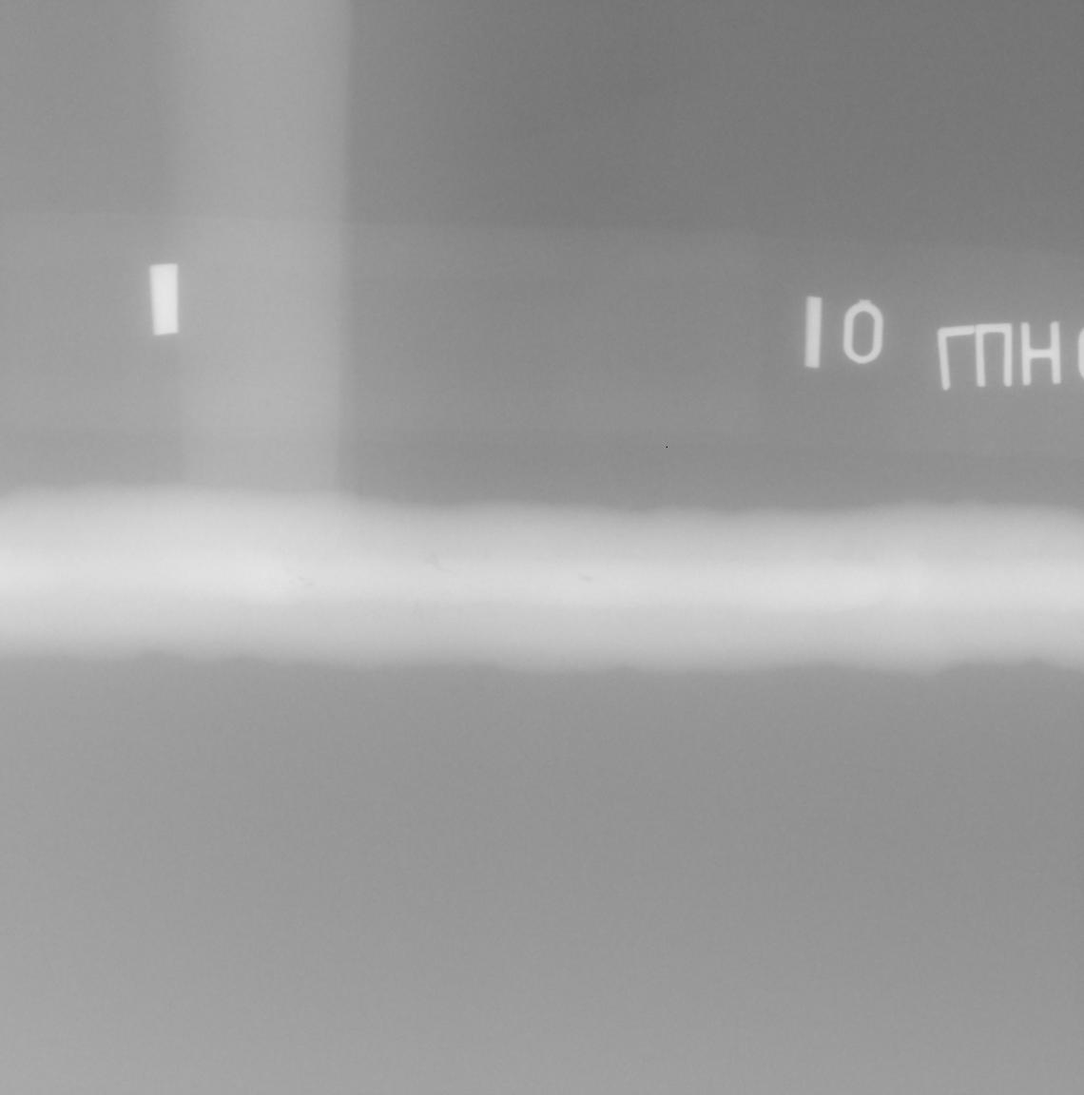Inclusion: (412, 598, 419, 616), (444, 569, 459, 576), (578, 574, 592, 581), (433, 603, 439, 609), (412, 618, 416, 623)
Pore/Porosity: (426, 551, 443, 570), (285, 568, 293, 574), (483, 551, 489, 558), (300, 587, 306, 593), (288, 580, 294, 585), (307, 582, 314, 586), (298, 577, 304, 581)
